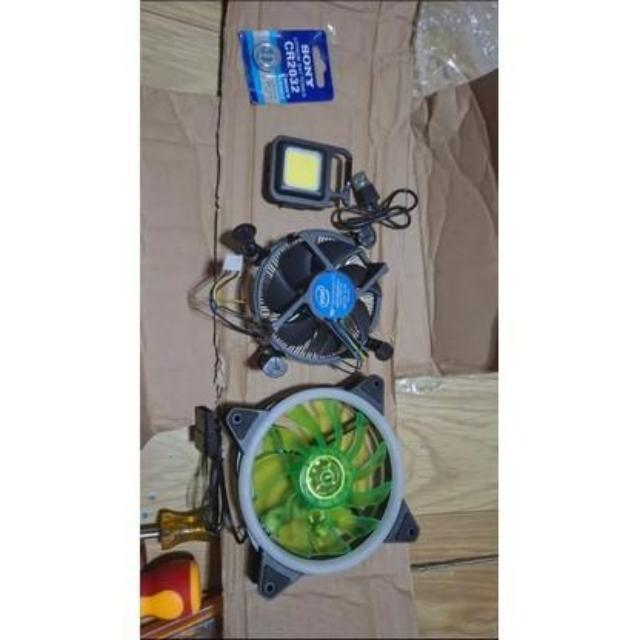CPU_Fan: (216, 223, 410, 386)
